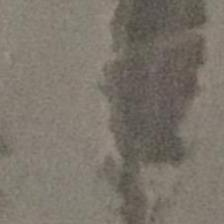Non_Crack: (0, 10, 98, 224)
